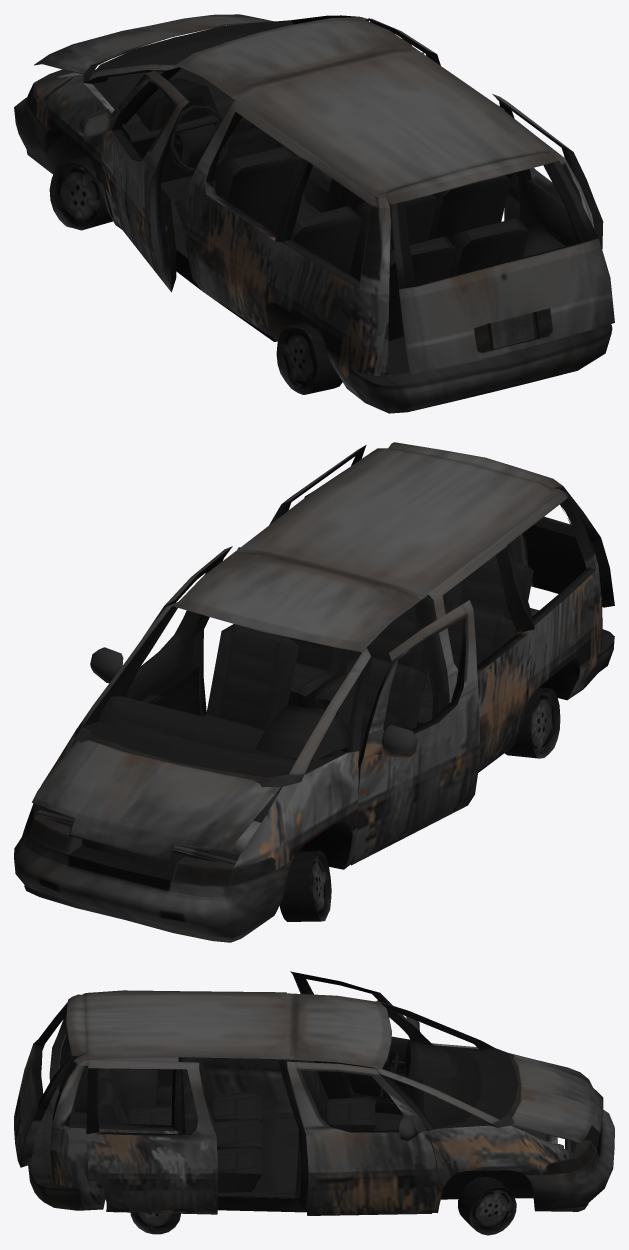
Rendered from Vehicle_en90_LuminaAPV_Burned.fbx.
3 views of the same model, one above another, from view 1: azimuth 30°, elevation 25°; view 2: azimuth 150°, elevation 25°; view 3: azimuth 270°, elevation 25° (orthographic). The views are drawn at different scales.
Visible parts, largest first — view 1: Body; view 2: Body; view 3: Body.
Part boxes in pixels (x1,y1,x2,y2): Body: [14, 14, 614, 413]; Body: [14, 442, 614, 942]; Body: [14, 971, 614, 1235].
Bounding box in the file's own units: 470 × 319 × 1014.
